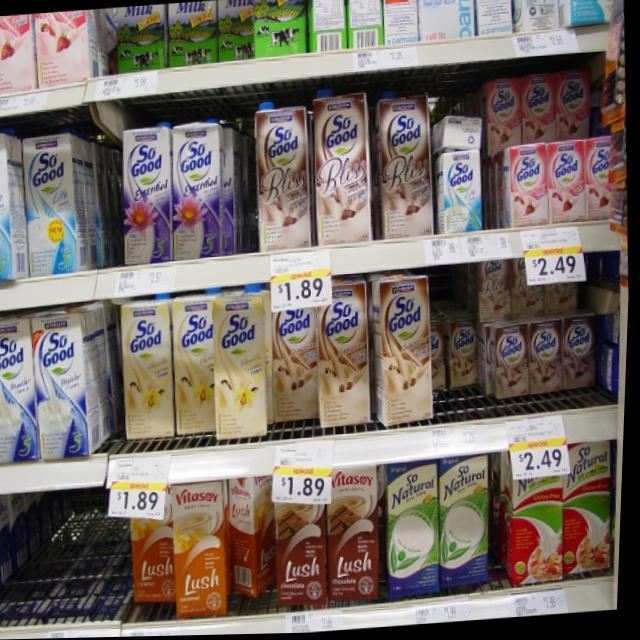q262: (16, 130, 92, 277), (0, 124, 23, 284)
